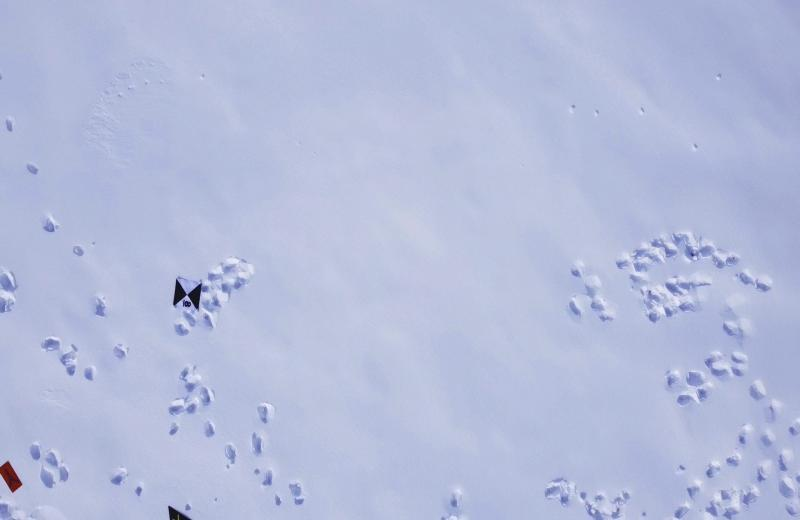Rectangle: (0, 458, 24, 496)
Triangle: (164, 502, 193, 520)
